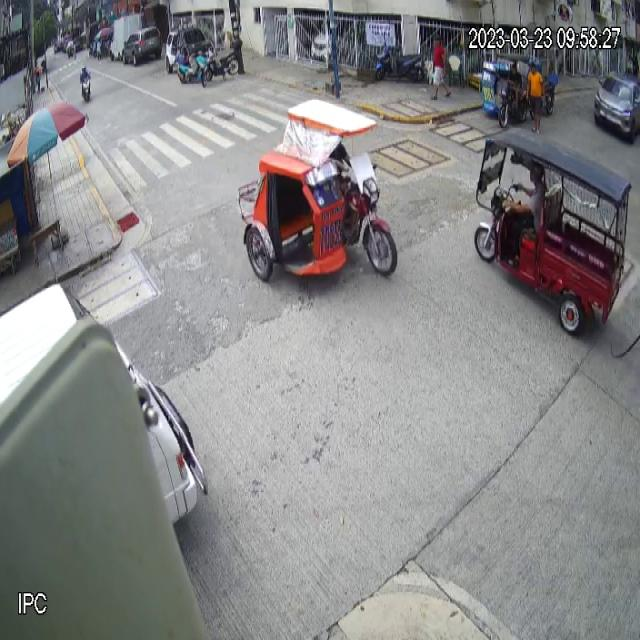Car: (591, 70, 640, 144)
Tricycle: (234, 95, 401, 293), (481, 50, 531, 129)
